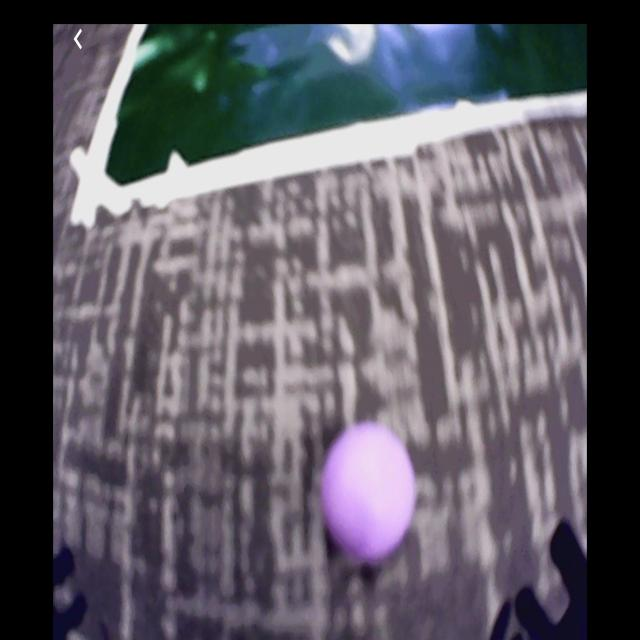ball: (321, 425, 417, 556)
